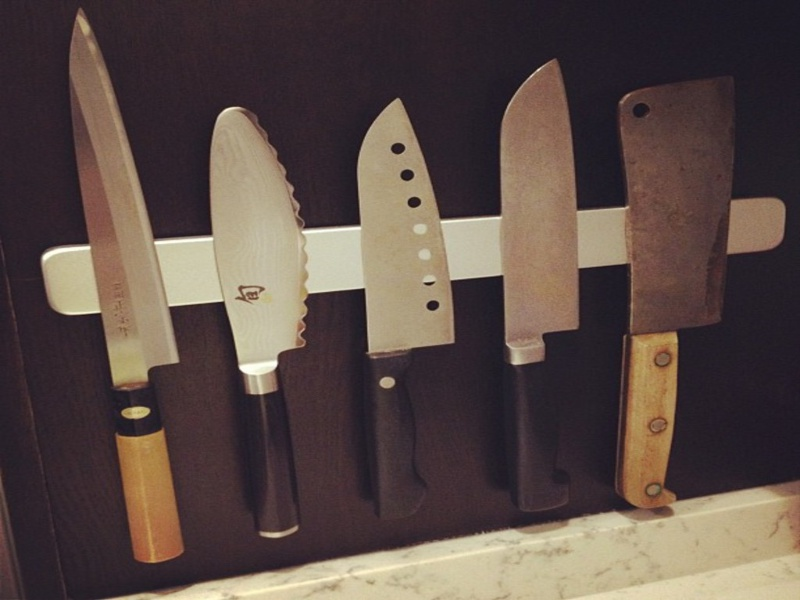knife: (65, 13, 190, 567), (615, 70, 731, 511), (353, 85, 461, 531), (213, 105, 315, 538), (495, 53, 582, 517)
